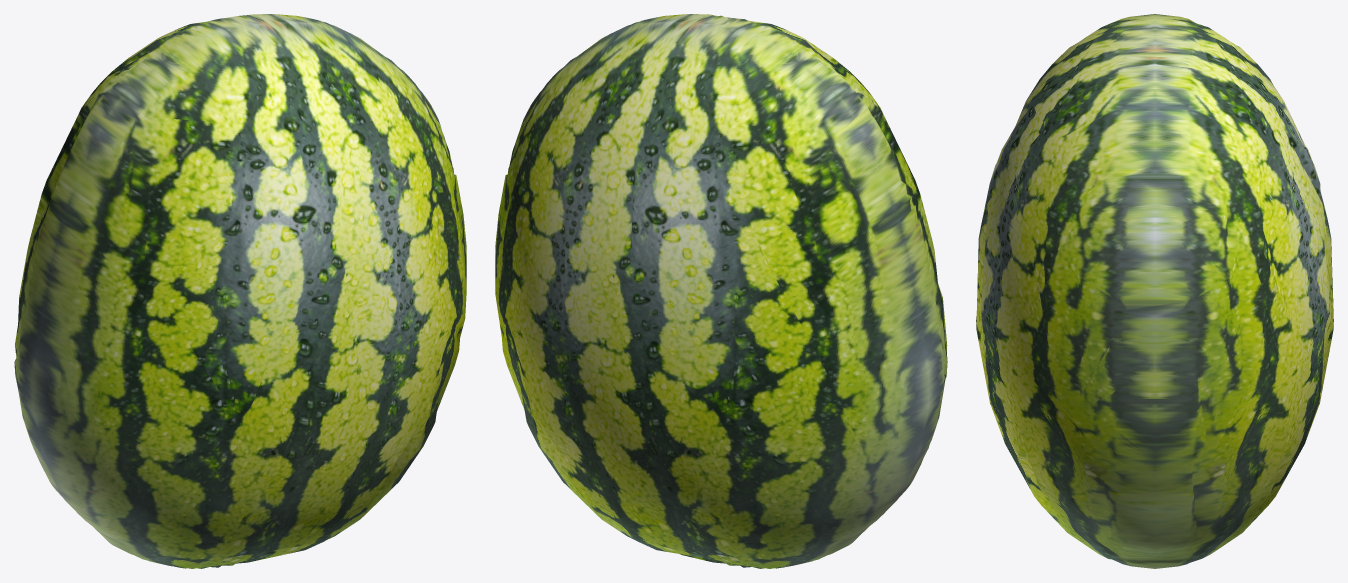
File: watermelon.fbx
3 views of the same model, side by side, from view 1: azimuth 30°, elevation 25°; view 2: azimuth 150°, elevation 25°; view 3: azimuth 270°, elevation 25° (orthographic). The views are drawn at different scales.
Visible parts, largest first — view 1: mm_frame.001; view 2: mm_frame.001; view 3: mm_frame.001.
Boxes of the visible parts, x1,y1,x2,y2 form: mm_frame.001: (14, 14, 466, 568); mm_frame.001: (495, 14, 947, 568); mm_frame.001: (976, 14, 1333, 568).
Size of the model in its own units: 3.88 by 4.7 by 2.99.
Materials: 1 (1 with a texture image).
